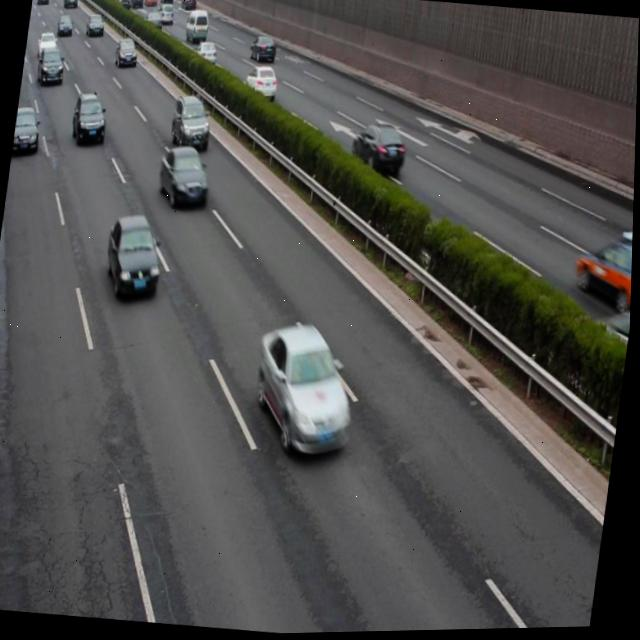car: (249, 320, 365, 464), (101, 211, 167, 306), (572, 238, 634, 311), (156, 144, 213, 213), (349, 120, 408, 181), (169, 92, 213, 151), (70, 89, 111, 147), (11, 102, 45, 159), (243, 65, 279, 104)
